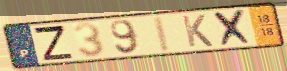3: (73, 21, 105, 60)
9: (109, 19, 142, 55)
I: (151, 15, 173, 54)
K: (179, 13, 216, 48)
X: (210, 7, 256, 48)
Z: (31, 24, 76, 62)
